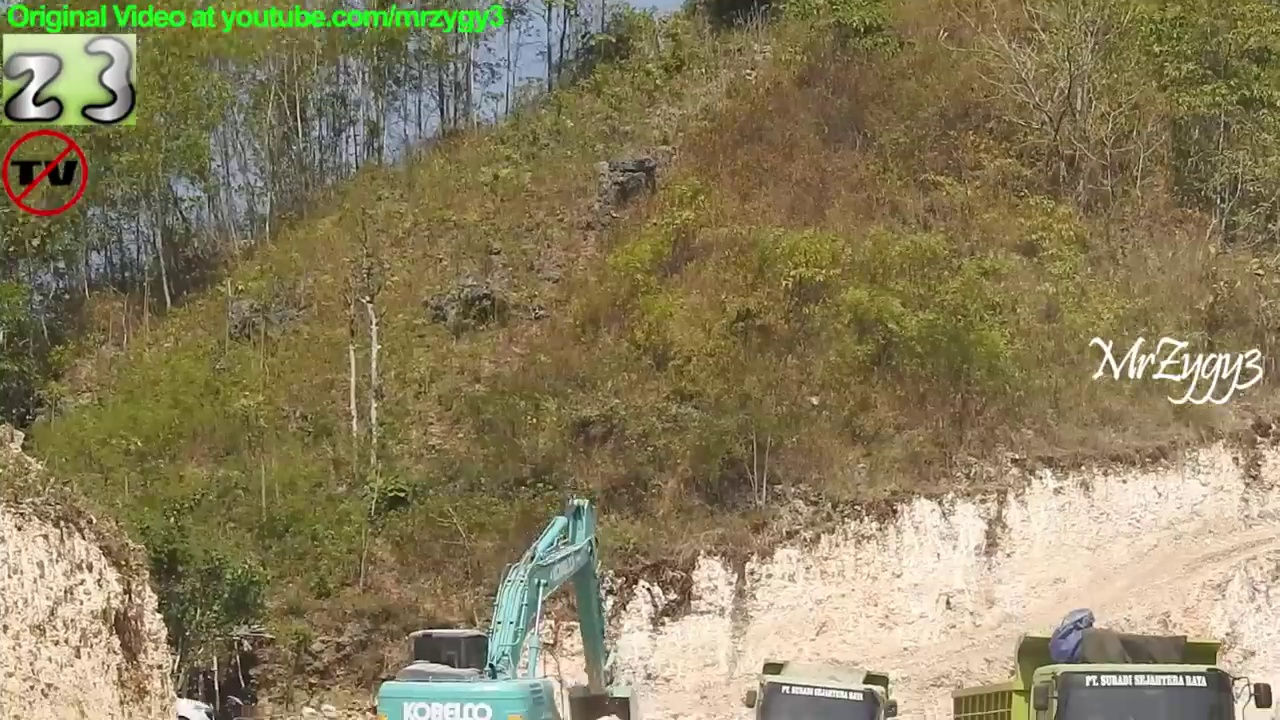excavator: (368, 492, 648, 720)
truck: (944, 626, 1280, 720), (736, 654, 907, 720)
